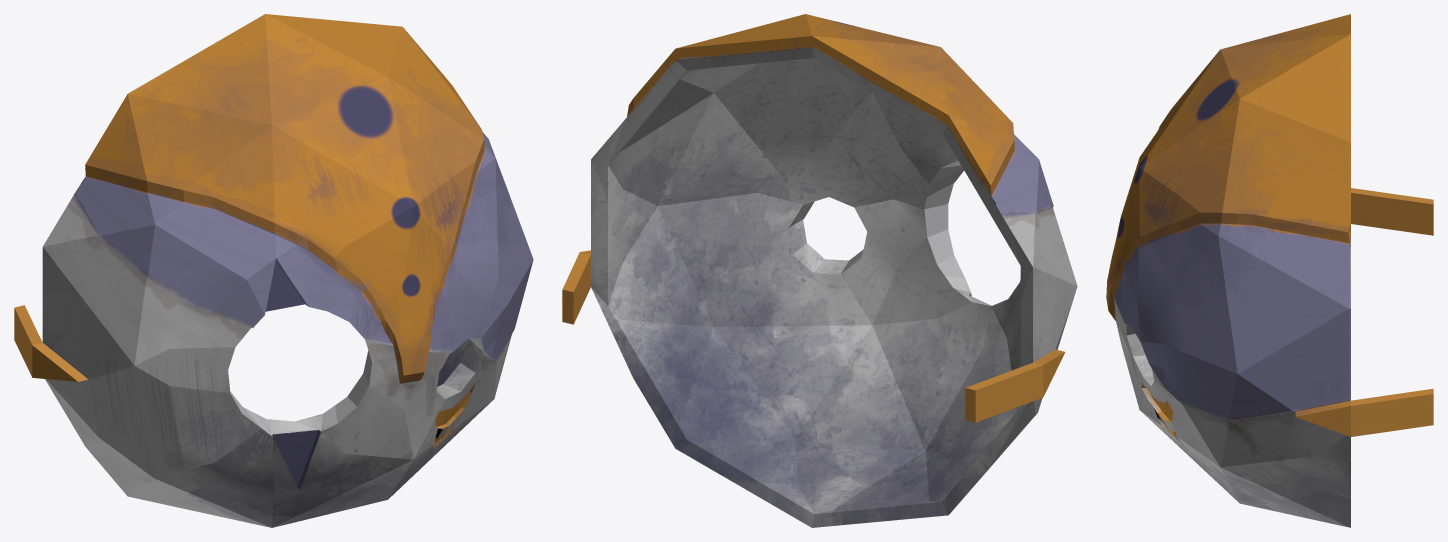
File: masqueGyu5V2.fbx
3 views of the same model, side by side, from view 1: azimuth 30°, elevation 25°; view 2: azimuth 150°, elevation 25°; view 3: azimuth 270°, elevation 25° (orthographic). The views are drawn at different scales.
Parts seen in each view (by area): view 1: leMasqueVrai; view 2: leMasqueVrai; view 3: leMasqueVrai.
Boxes of the visible parts, left/top/right/bottom form: leMasqueVrai: left=14, top=14, right=533, bottom=527; leMasqueVrai: left=562, top=14, right=1077, bottom=527; leMasqueVrai: left=1106, top=14, right=1433, bottom=527.
Size of the model in its own units: 70.46 by 71.45 by 44.71.
